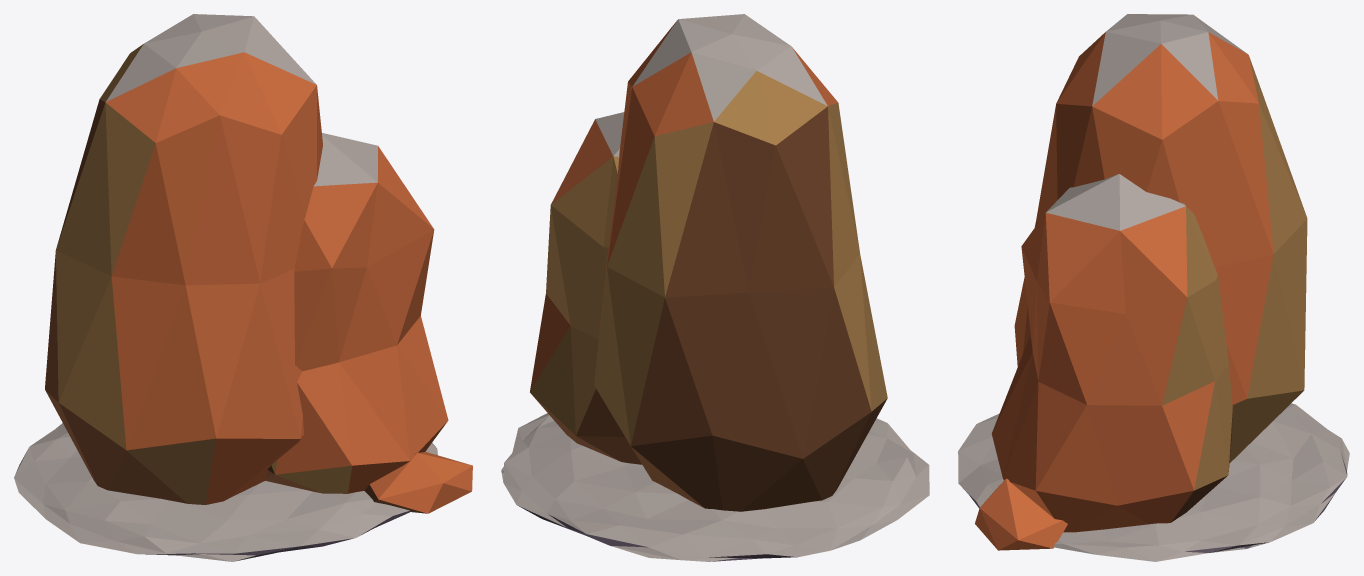
File: TuffRockA.fbx
3 renders of one model, left to right at view 1: azimuth 30°, elevation 25°; view 2: azimuth 150°, elevation 25°; view 3: azimuth 270°, elevation 25°, orthographic. The views are drawn at different scales.
Visible parts, largest first — view 1: TuffRockA; view 2: TuffRockA; view 3: TuffRockA.
Boxes of the visible parts, x1=… form: TuffRockA: x1=14, y1=14, x2=472, y2=561; TuffRockA: x1=501, y1=14, x2=929, y2=561; TuffRockA: x1=958, y1=14, x2=1349, y2=561.
Size of the model in its own units: 1.71 by 1.95 by 1.57.
1 material, 1 textured.
